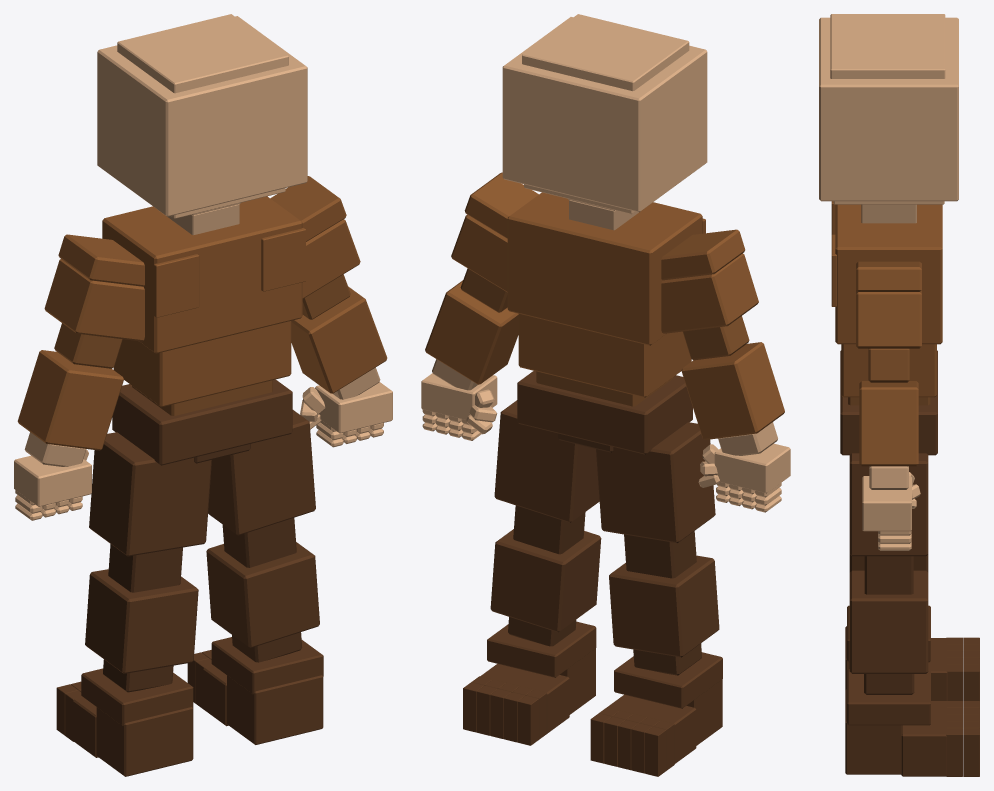
Rendered from npc_mestre_geppo.glb.
3 renders of one model, left to right at view 1: azimuth 30°, elevation 25°; view 2: azimuth 150°, elevation 25°; view 3: azimuth 270°, elevation 25°, orthographic. The views are drawn at different scales.
Visible parts, largest first — view 1: Geo_Head_Runtime, Geo_Chest_Runtime, Geo_Thigh_L_Runtime, Geo_Abdomen_Runtime, Geo_Shin_L_Runtime, Geo_Pelvis_Runtime, Geo_Shin_R_Runtime, Geo_Thigh_R_Runtime, Geo_HeadTop_Runtime, Geo_ForeArm_L_Runtime, Geo_ForeArm_R_Runtime, Geo_UpperArm_L_Runtime (+23 smaller); view 2: Geo_Head_Runtime, Geo_Chest_Runtime, Geo_Thigh_L_Runtime, Geo_Abdomen_Runtime, Geo_Shin_L_Runtime, Geo_Pelvis_Runtime, Geo_Shin_R_Runtime, Geo_Thigh_R_Runtime, Geo_HeadTop_Runtime, Geo_ForeArm_L_Runtime, Geo_ForeArm_R_Runtime, Geo_UpperArm_L_Runtime (+31 smaller); view 3: Geo_Head_Runtime, Geo_Chest_Runtime, Geo_HeadTop_Runtime, Geo_Shin_R_Runtime, Geo_ForeArm_R_Runtime, Geo_UpperArm_R_Runtime, Geo_Thigh_R_Runtime, Geo_AnkleCuff_R_Runtime, Geo_Heel_R_Runtime, Geo_Foot_R_Runtime, Geo_Abdomen_Runtime, Geo_Pelvis_Runtime (+17 smaller).
Part boxes in pixels (bbox=[...]): Geo_Head_Runtime: bbox=[97, 16, 307, 216]; Geo_Chest_Runtime: bbox=[102, 196, 302, 353]; Geo_Thigh_L_Runtime: bbox=[89, 432, 211, 556]; Geo_Abdomen_Runtime: bbox=[113, 321, 291, 407]; Geo_Shin_L_Runtime: bbox=[85, 569, 198, 673]; Geo_Pelvis_Runtime: bbox=[112, 379, 292, 465]; Geo_Shin_R_Runtime: bbox=[206, 542, 319, 647]; Geo_Thigh_R_Runtime: bbox=[208, 410, 315, 535]; Geo_HeadTop_Runtime: bbox=[117, 14, 288, 93]; Geo_ForeArm_L_Runtime: bbox=[17, 350, 123, 450]; Geo_ForeArm_R_Runtime: bbox=[291, 286, 387, 393]; Geo_UpperArm_L_Runtime: bbox=[44, 259, 144, 341]; Geo_Head_Runtime: bbox=[502, 17, 707, 212]; Geo_Chest_Runtime: bbox=[507, 192, 702, 345]; Geo_Thigh_L_Runtime: bbox=[596, 422, 715, 543]; Geo_Abdomen_Runtime: bbox=[518, 314, 691, 397]; Geo_Shin_L_Runtime: bbox=[609, 555, 719, 657]; Geo_Pelvis_Runtime: bbox=[517, 371, 692, 454]; Geo_Shin_R_Runtime: bbox=[490, 529, 601, 632]; Geo_Thigh_R_Runtime: bbox=[494, 400, 599, 522]; Geo_HeadTop_Runtime: bbox=[522, 14, 689, 91]; Geo_ForeArm_L_Runtime: bbox=[681, 342, 784, 439]; Geo_ForeArm_R_Runtime: bbox=[425, 280, 518, 384]; Geo_UpperArm_L_Runtime: bbox=[661, 253, 758, 333]; Geo_Head_Runtime: bbox=[819, 17, 958, 201]; Geo_Chest_Runtime: bbox=[835, 204, 942, 344]; Geo_HeadTop_Runtime: bbox=[830, 14, 945, 78]; Geo_Shin_R_Runtime: bbox=[849, 570, 928, 673]; Geo_ForeArm_R_Runtime: bbox=[859, 381, 918, 466]; Geo_UpperArm_R_Runtime: bbox=[856, 290, 921, 348]; Geo_Thigh_R_Runtime: bbox=[849, 453, 928, 556]; Geo_AnkleCuff_R_Runtime: bbox=[847, 669, 930, 725]; Geo_Heel_R_Runtime: bbox=[845, 689, 902, 774]; Geo_Foot_R_Runtime: bbox=[901, 701, 946, 776]; Geo_Abdomen_Runtime: bbox=[841, 344, 936, 397]; Geo_Pelvis_Runtime: bbox=[840, 350, 937, 455].
Bounding box in the file's own units: 1.07 × 1.98 × 0.4192.
